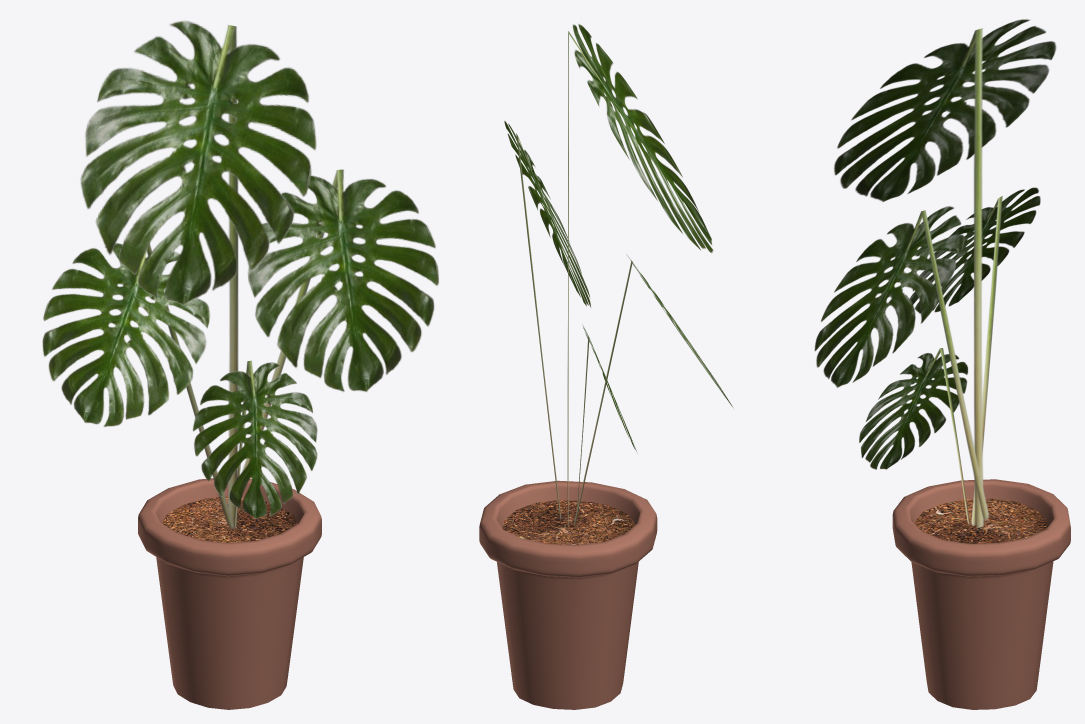
Rendered from Monstera.glb.
3 views of the same model, side by side, from view 1: azimuth 30°, elevation 25°; view 2: azimuth 150°, elevation 25°; view 3: azimuth 270°, elevation 25° (orthographic).
Parts seen in each view (by area): view 1: Monstera, MonsterPot; view 2: MonsterPot, Monstera; view 3: Monstera, MonsterPot.
Part boxes in pixels (bbox=[...]): Monstera: bbox=[42, 20, 438, 529]; MonsterPot: bbox=[138, 478, 321, 709]; MonsterPot: bbox=[479, 480, 657, 709]; Monstera: bbox=[504, 23, 732, 527]; Monstera: bbox=[814, 19, 1056, 528]; MonsterPot: bbox=[892, 479, 1070, 709].
Size of the model in its own units: 0.7482 by 1.37 by 0.5483.
3 materials, 2 textured.
